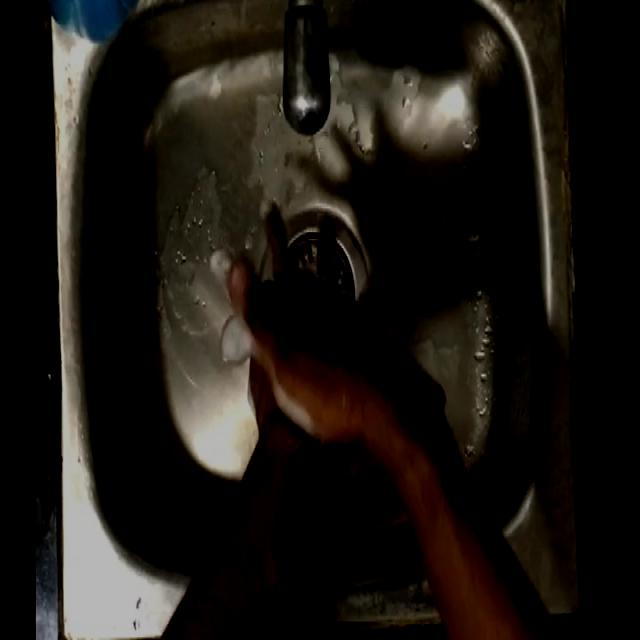step_2: (212, 188, 422, 460)
